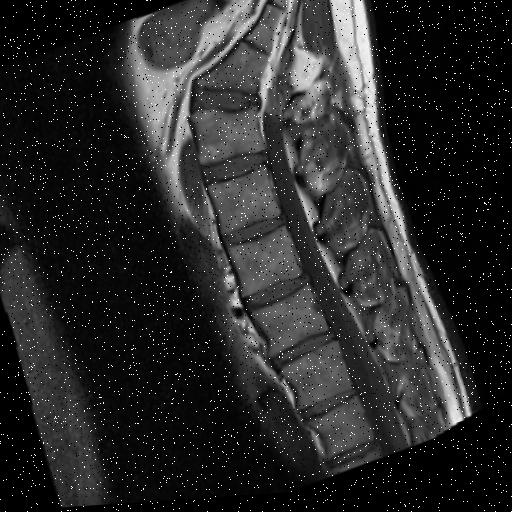L1: (281, 345, 352, 413)
L2: (250, 286, 328, 362)
L3: (228, 228, 300, 299)
L4: (209, 170, 278, 238)
L5: (190, 108, 265, 165)
S1: (197, 42, 267, 96)
